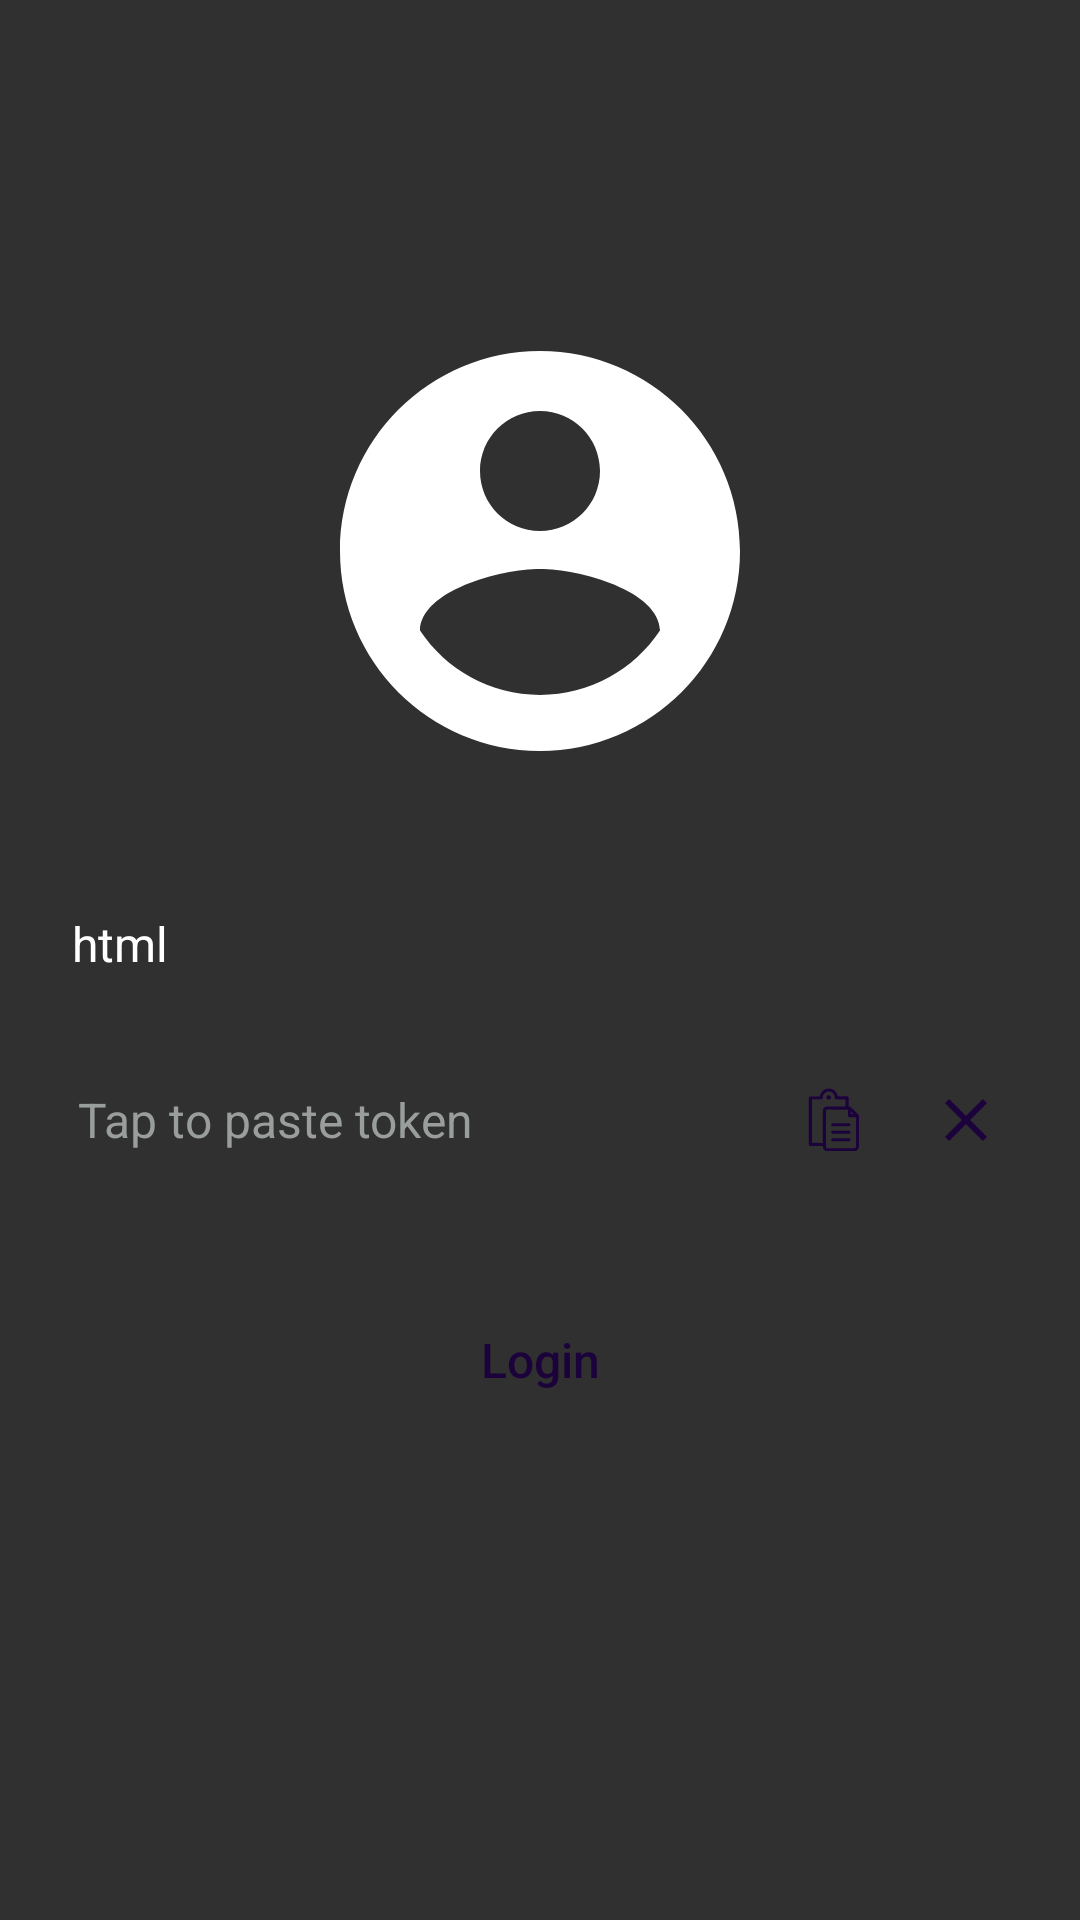

Icon click points for this 1080*1920 phone screenshot, format point (x, y):
Clear: point (966, 1120)
